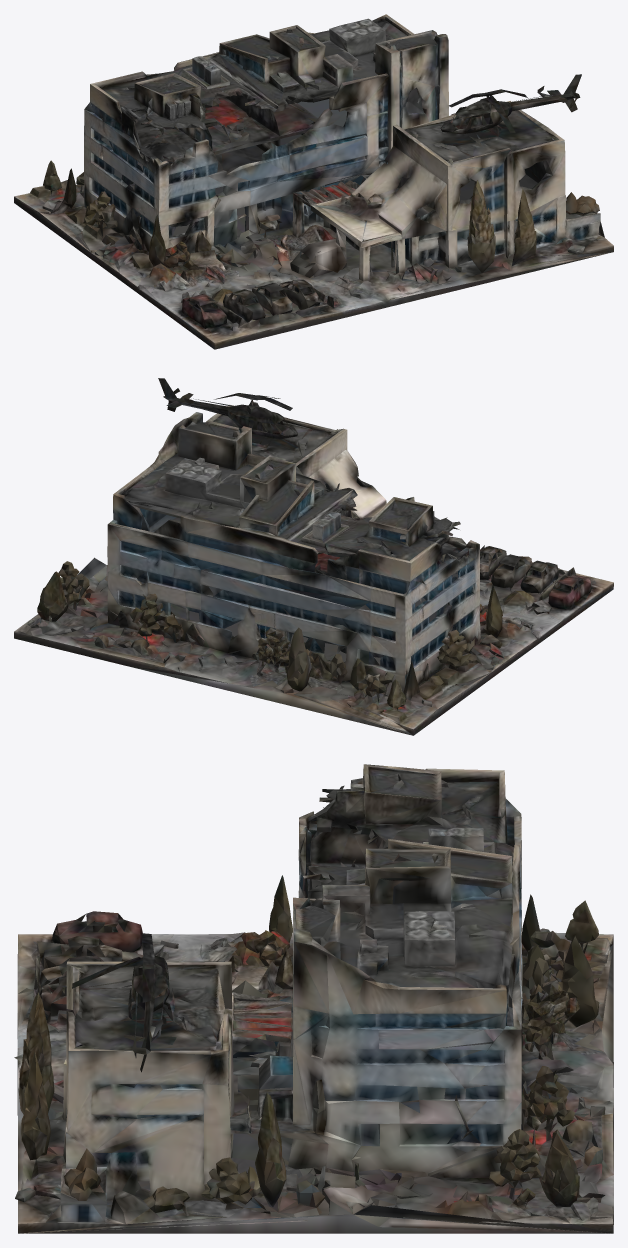
Rendered from ospedale_dev.glb.
The picture shows the model from 3 angles, top to bottom: view 1: azimuth 30°, elevation 25°; view 2: azimuth 150°, elevation 25°; view 3: azimuth 270°, elevation 25°; orthographic projection. The views are drawn at different scales.
Parts seen in each view (by area): view 1: output_unwrapped; view 2: output_unwrapped; view 3: output_unwrapped.
Part boxes in pixels (left/top/right/bottom): output_unwrapped: left=14, top=14, right=613, bottom=349; output_unwrapped: left=14, top=378, right=613, bottom=735; output_unwrapped: left=14, top=764, right=613, bottom=1233.
Bounding box in the file's own units: 1.9 × 0.7336 × 1.62.
1 material, 1 textured.
